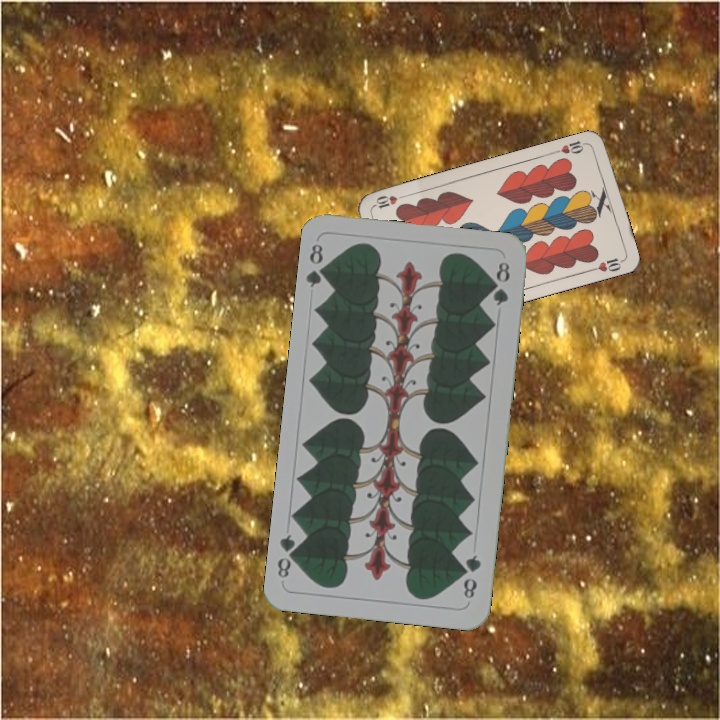G8: (303, 240, 332, 290), (458, 550, 484, 601)
H10: (551, 137, 591, 156)
